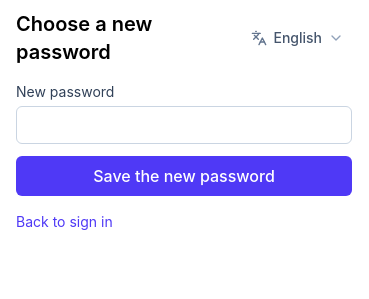
Test: ResetPasswordPage (AUTH-4) › reports an expired link rather than a blank failure
Type "brandnewpass1" into the password field labelled "New password" at (184, 125), box [16,106,352,144]
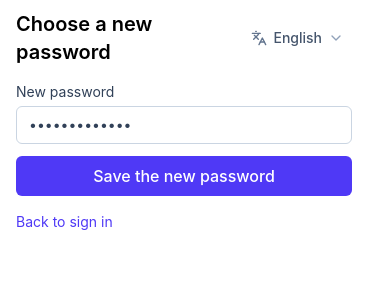
Click the button "Save the new password" at (184, 176), box [16,156,352,196]
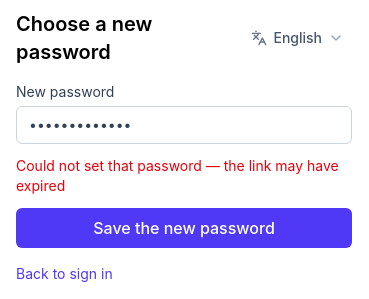
Now the text "Could not set that password — the link may have expired" is shown, box [16,156,352,196]
